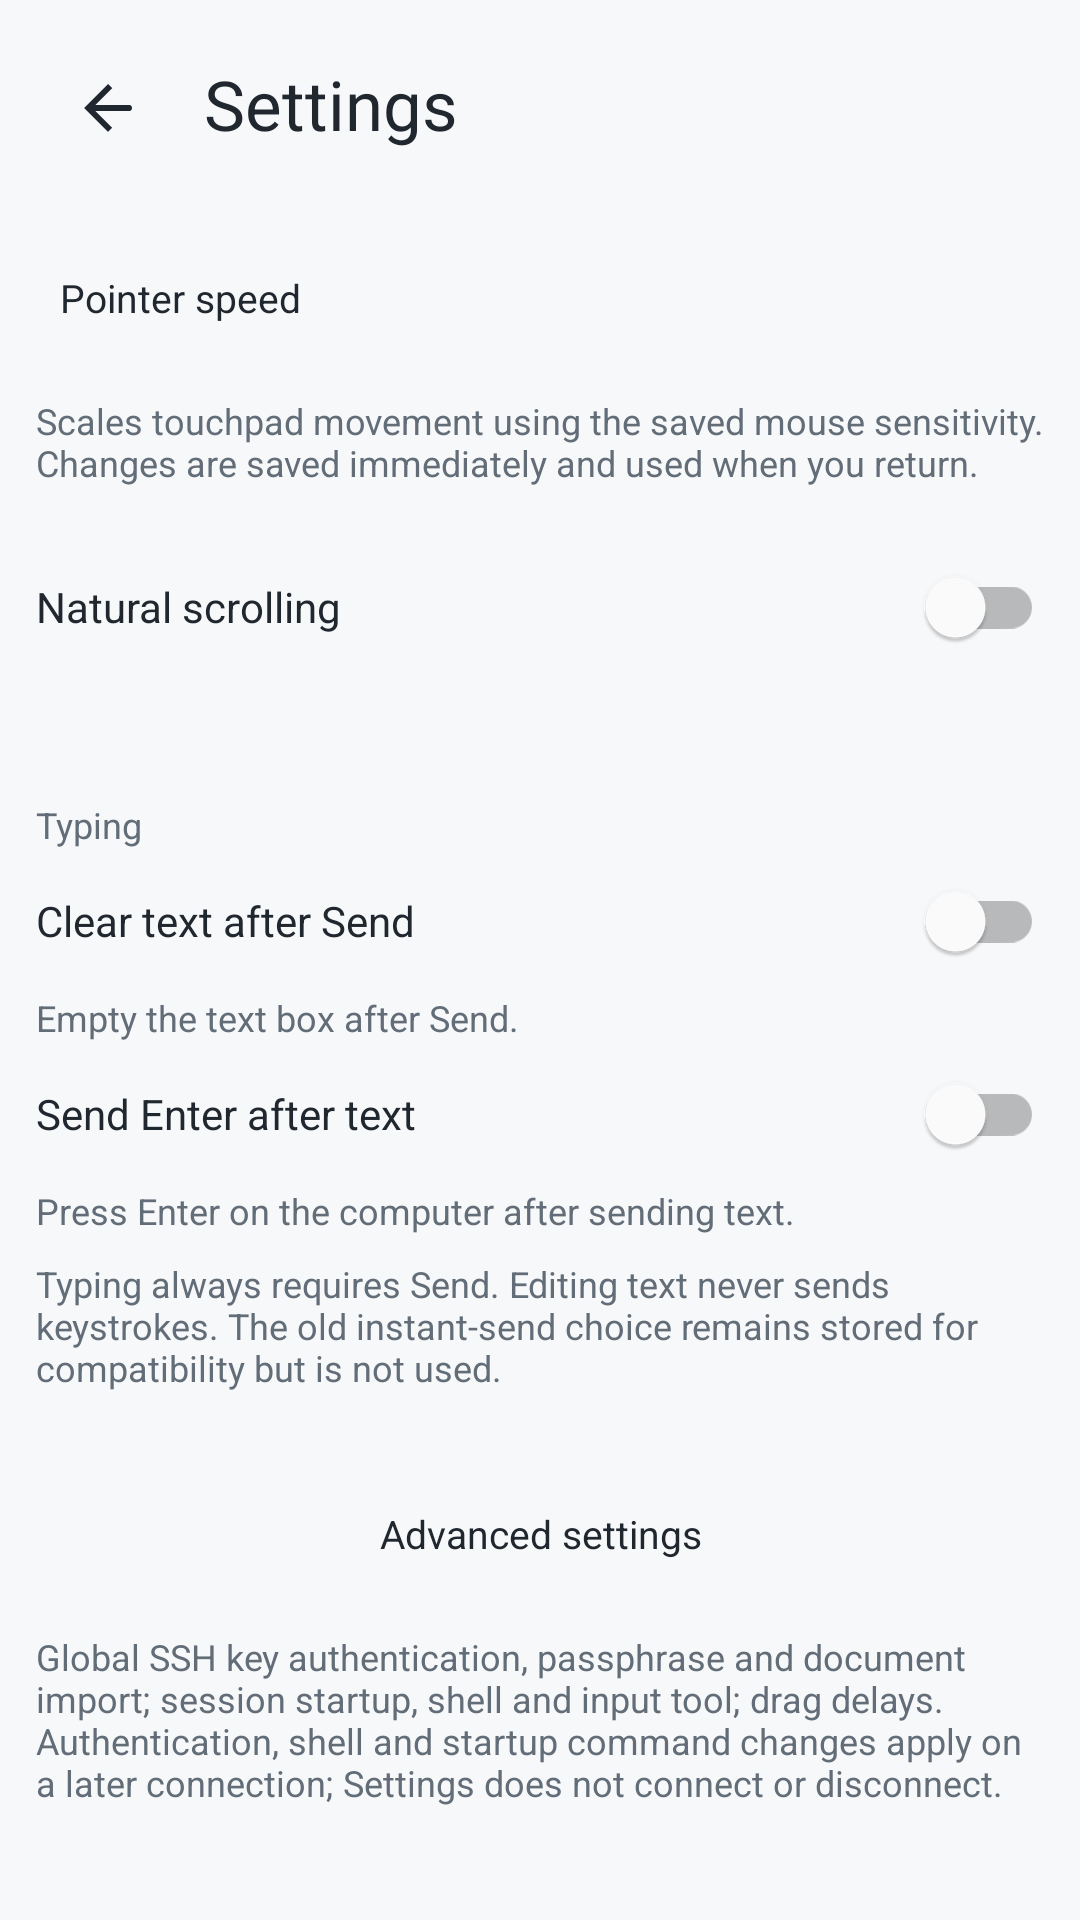

Where to tap for icons on this 1080 x 1920 app screen, as point (x, y):
Back: point (108, 108)
